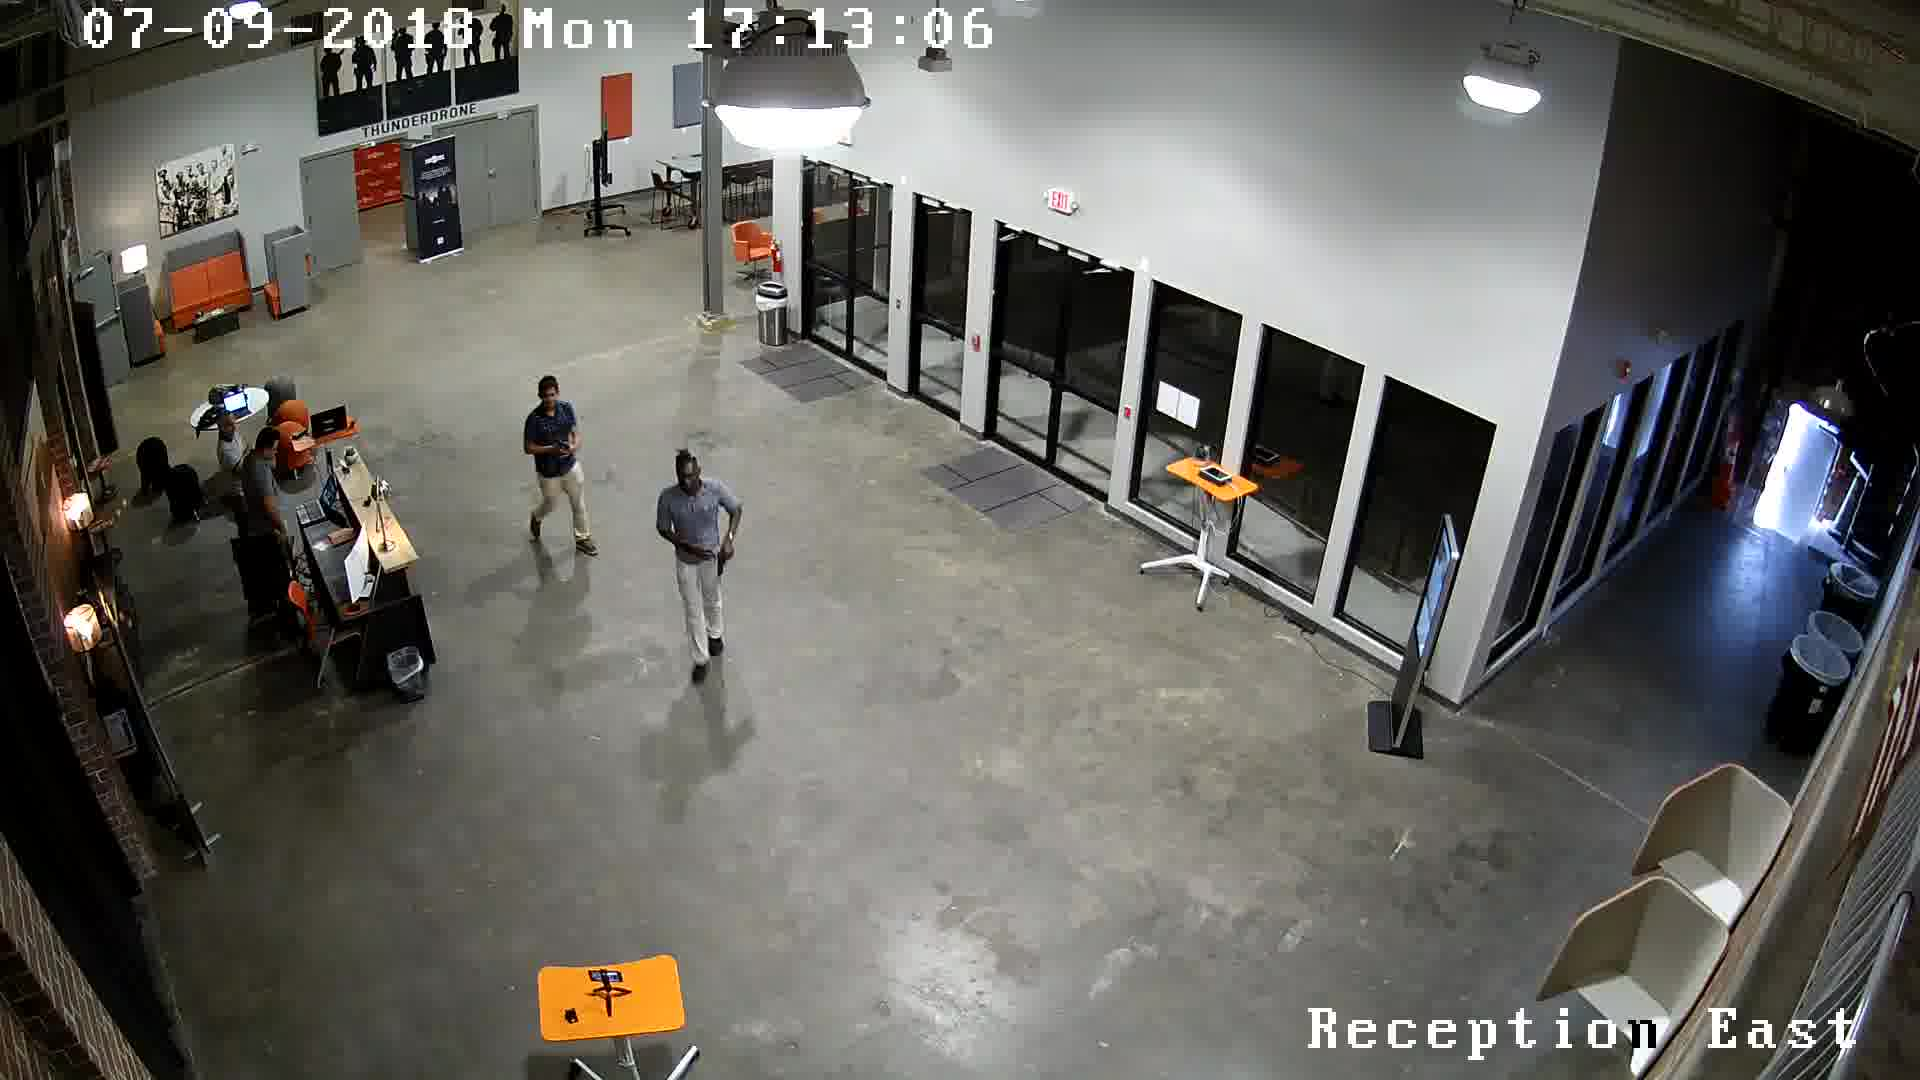pistol: (703, 534, 741, 582), (541, 434, 585, 472)
